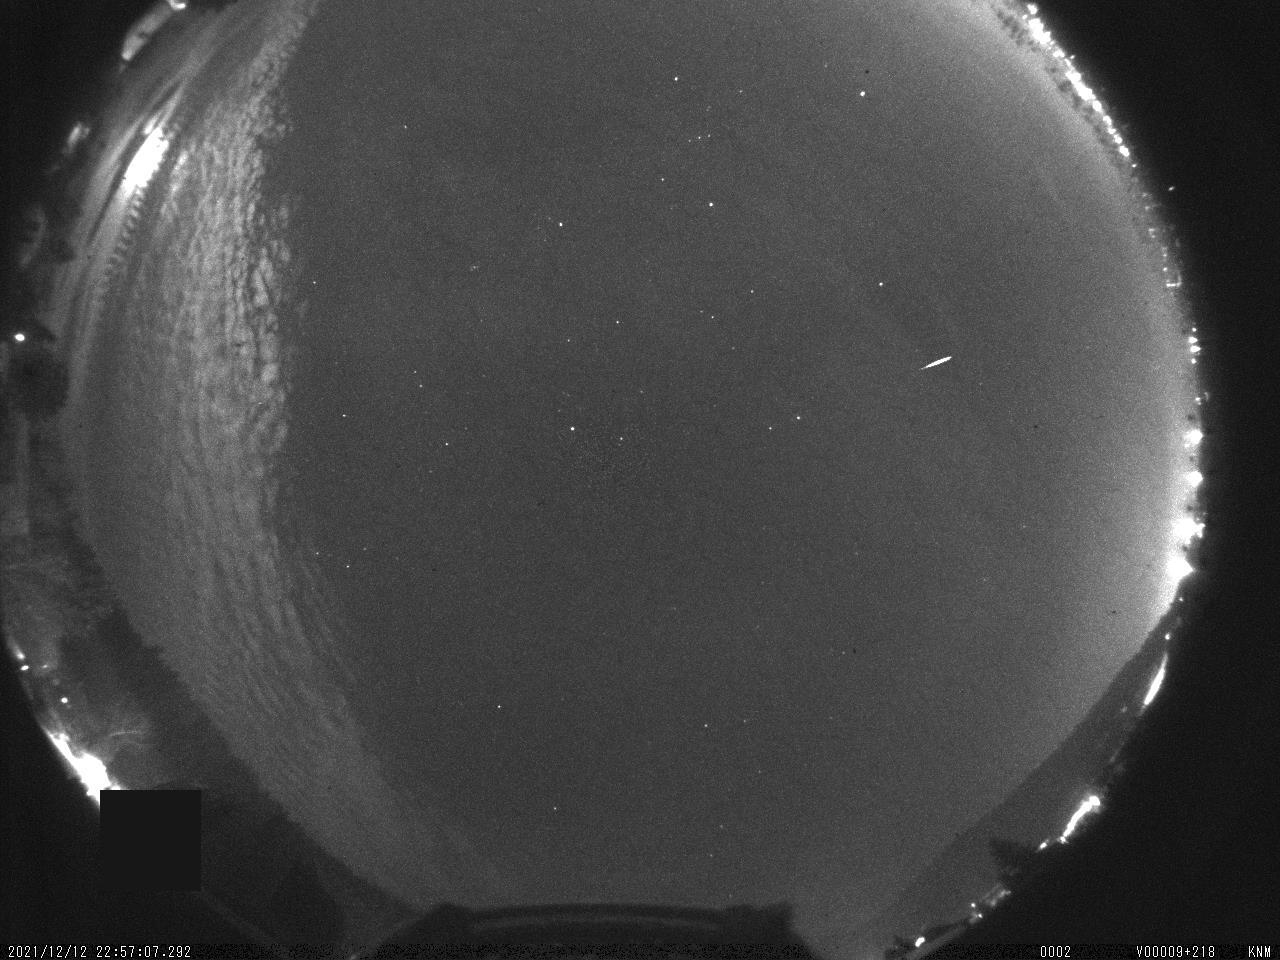meteor: (908, 342, 958, 383)
